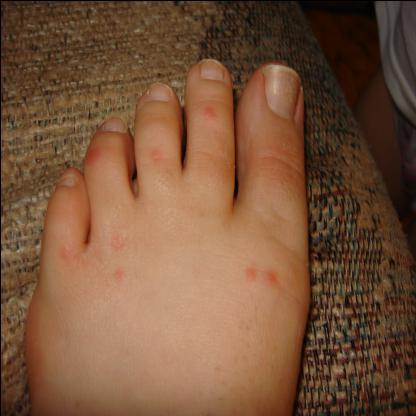Fire ant: (242, 264, 277, 290), (83, 145, 100, 166), (57, 247, 77, 262), (201, 104, 217, 120), (110, 266, 126, 281), (148, 147, 162, 163)
